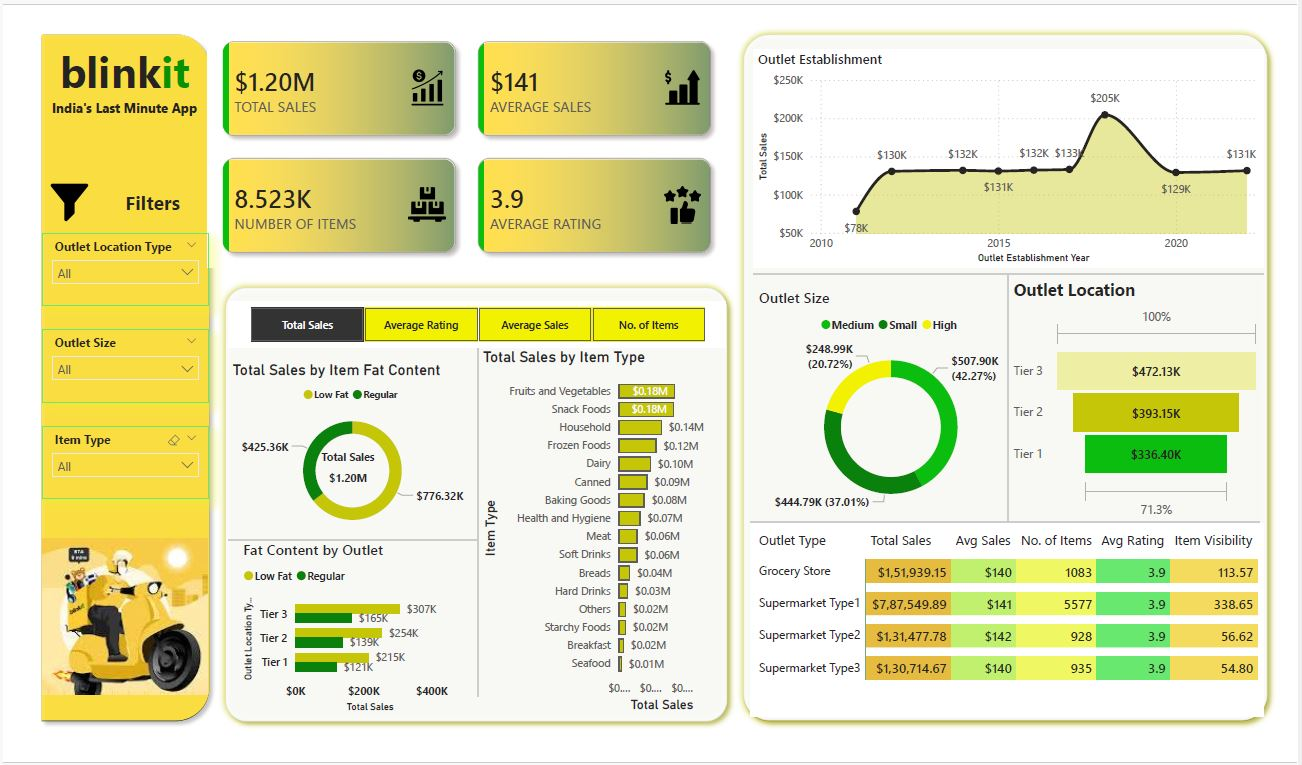

What the dashboard file says about the page in this screenshot:
{"tool":"powerbi","page":{"name":"Page 1","canvas":[1400,800],"ordinal":0},"visuals":[{"type":"shape","box":[10,0,206,786],"z":0},{"type":"textbox","box":[19.4,12.4,185.6,95.4],"z":1000},{"type":"cardVisual","fields":{"Data":["Sum(Blinkit Grocery data.Sales)","Blinkit Grocery data.Average Sales","Blinkit Grocery data.No. of Items","Blinkit Grocery data.Avg Rating"]},"box":[205,0,579.7,270.4],"z":2000},{"type":"shape","box":[215.6,282.8,579.7,503.7],"z":3000},{"type":"donutChart","fields":{"Y":["Blinkit Grocery data.Total Sales"],"Category":["Blinkit Grocery data.Item Fat Content"]},"box":[228,374,278,200],"z":4000},{"type":"slicer","fields":{"Values":["Metrics.Metrics"]},"box":[228,307.5,556.7,51.3],"z":5000},{"type":"cardVisual","fields":{"Data":["Blinkit Grocery data.Total Sales"]},"box":[312,456,100,64],"z":6000},{"type":"clusteredBarChart","title":"Fat Content by Outlet","fields":{"Y":["Blinkit Grocery data.Total Sales"],"Series":["Blinkit Grocery data.Item Fat Content"],"Category":["Blinkit Grocery data.Outlet Location Type"]},"box":[240,574,254,198],"z":7000},{"type":"shape","box":[228,440,278,270],"z":8000},{"type":"shape","box":[368,360,278,390],"z":9000},{"type":"barChart","fields":{"Y":["Blinkit Grocery data.Total Sales"],"Category":["Blinkit Grocery data.Item Type"]},"box":[508,360,276,412],"z":10000},{"type":"shape","box":[796,0,604,786],"z":11000},{"type":"lineChart","title":"Outlet Establishment","fields":{"Y":["Blinkit Grocery data.Total Sales"],"Category":["Blinkit Grocery data.Outlet Establishment Year"]},"box":[816,26,570,244],"z":12000},{"type":"donutChart","title":"Outlet Size","fields":{"Y":["Blinkit Grocery data.Total Sales"],"Category":["Blinkit Grocery data.Outlet Size"]},"box":[816.7,293.3,305,261.7],"z":13000},{"type":"shape","box":[961.7,278.3,278.3,276.7],"z":14000},{"type":"shape","box":[816,142,570,270],"z":15000},{"type":"funnel","title":"Outlet Location","fields":{"Category":["Blinkit Grocery data.Outlet Location Type"],"Y":["Blinkit Grocery data.Total Sales"]},"box":[1101.7,281.7,285,275],"z":16000},{"type":"shape","box":[812,420,570,270],"z":17000},{"type":"pivotTable","fields":{"Values":["Blinkit Grocery data.Total Sales","Blinkit Grocery data.Average Sales","Blinkit Grocery data.No. of Items","Blinkit Grocery data.Average Rating","Sum(Blinkit Grocery data.Item Visibility)"],"Rows":["Blinkit Grocery data.Outlet Type"]},"box":[812,556,574,216],"z":18000},{"type":"slicer","fields":{"Values":["Blinkit Grocery data.Outlet Location Type"]},"box":[20,231,186,82],"z":19000},{"type":"slicer","fields":{"Values":["Blinkit Grocery data.Outlet Size"]},"box":[20,339,186,82],"z":20000},{"type":"slicer","fields":{"Values":["Blinkit Grocery data.Item Type"]},"box":[20,447,186,82],"z":21000},{"type":"textbox","box":[80,176.7,126.7,48.3],"z":21001},{"type":"image","box":[20,170,60,55],"z":21002},{"type":"image","box":[15,561.7,195,196.7],"z":21003}]}

Visuals, with their boxes in screenshot pixels (x1, y1, x2, y2), scaled from the page's 1400x800 canvas onto the 1302x765 screenshot:
shape: 9 0 201 752
textbox: 18 12 191 103
cardVisual - Sum(Blinkit Grocery data.Sales) x Blinkit Grocery data.Average Sales: 191 0 730 259
shape: 201 270 740 752
donutChart - Blinkit Grocery data.Total Sales x Blinkit Grocery data.Item Fat Content: 212 358 471 549
slicer - Metrics.Metrics: 212 294 730 343
cardVisual - Blinkit Grocery data.Total Sales: 290 436 383 497
"Fat Content by Outlet" clusteredBarChart: 223 549 459 738
shape: 212 421 471 679
shape: 342 344 601 717
barChart - Blinkit Grocery data.Total Sales x Blinkit Grocery data.Item Type: 472 344 729 738
shape: 740 0 1301 752
"Outlet Establishment" lineChart: 759 25 1289 258
"Outlet Size" donutChart: 760 280 1043 531
shape: 894 266 1153 531
shape: 759 136 1289 394
"Outlet Location" funnel: 1025 269 1290 532
shape: 755 402 1285 660
pivotTable - Blinkit Grocery data.Total Sales x Blinkit Grocery data.Average Sales: 755 532 1289 738
slicer - Blinkit Grocery data.Outlet Location Type: 19 221 192 299
slicer - Blinkit Grocery data.Outlet Size: 19 324 192 403
slicer - Blinkit Grocery data.Item Type: 19 427 192 506
textbox: 74 169 192 215
image: 19 163 74 215
image: 14 537 195 725
